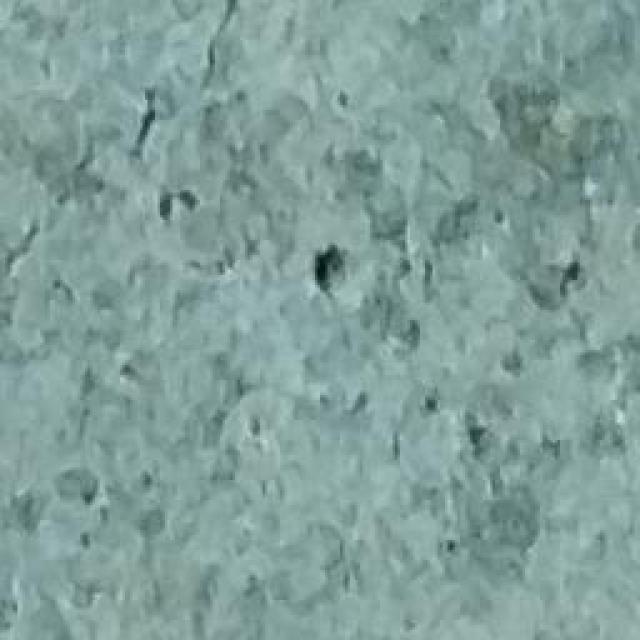Diagonal: (0, 0, 279, 284)
Rippled: (315, 1, 640, 640)
